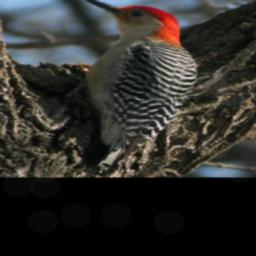Woodpecker: (60, 0, 201, 174)
